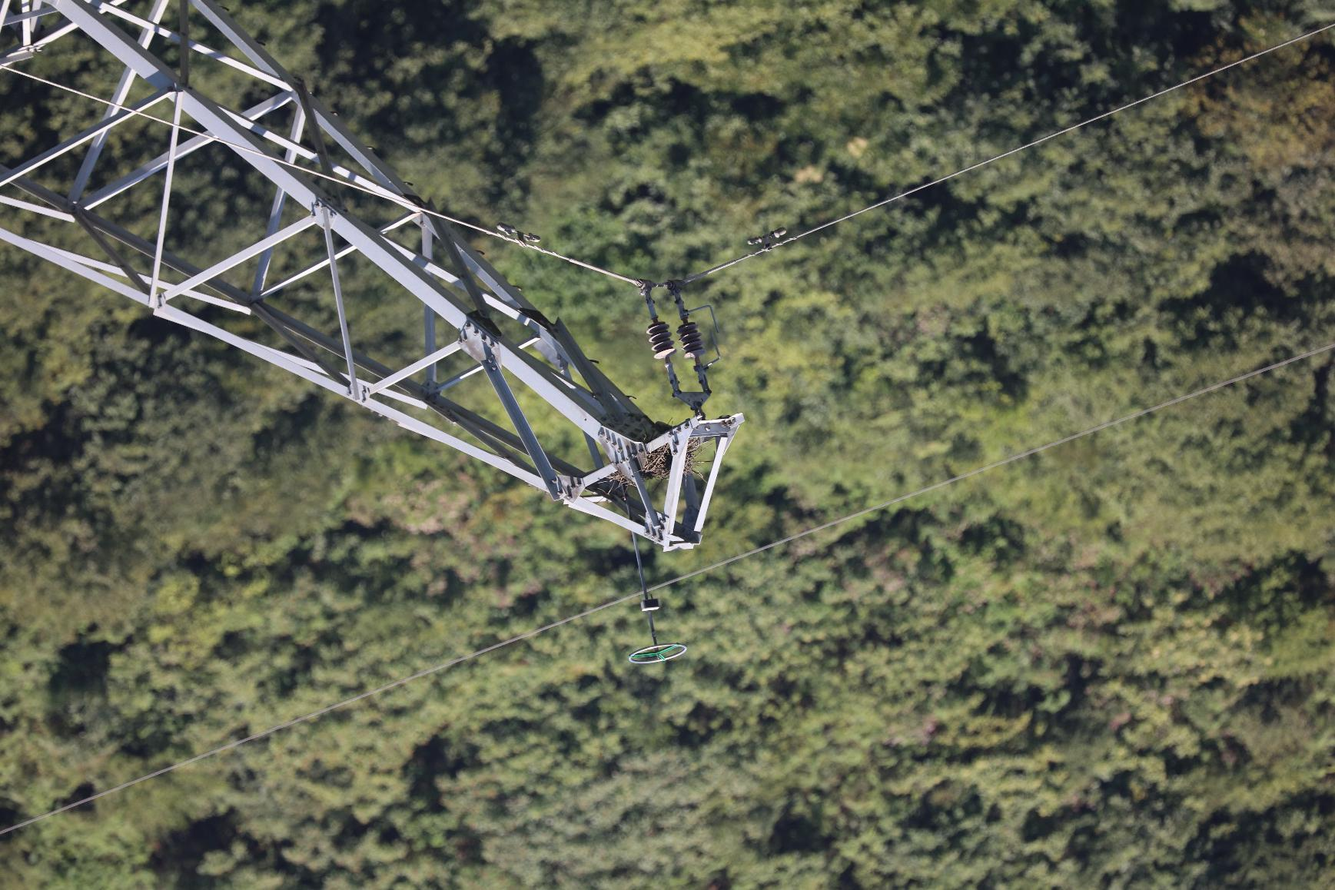damper: (493, 218, 544, 251), (746, 226, 789, 257)
nest: (638, 435, 709, 483)
